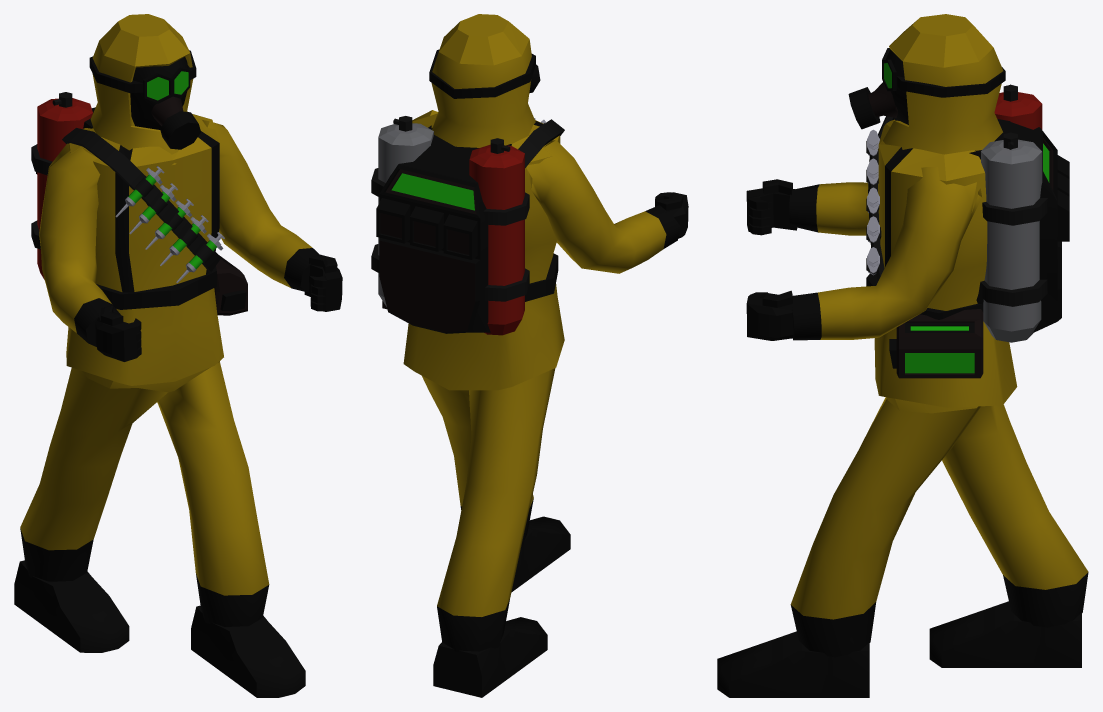
The model's file is MainWalk.FBX.
3 renders of one model, left to right at view 1: azimuth 30°, elevation 25°; view 2: azimuth 150°, elevation 25°; view 3: azimuth 270°, elevation 25°, orthographic. The views are drawn at different scales.
Parts seen in each view (by area): view 1: Cylinder001; view 2: Cylinder001; view 3: Cylinder001.
Boxes of the visible parts, x1,y1,x2,y2 form: Cylinder001: [14, 14, 342, 697]; Cylinder001: [371, 14, 688, 697]; Cylinder001: [717, 14, 1088, 697].
Bounding box in the file's own units: 82.03 × 193 × 99.62.
